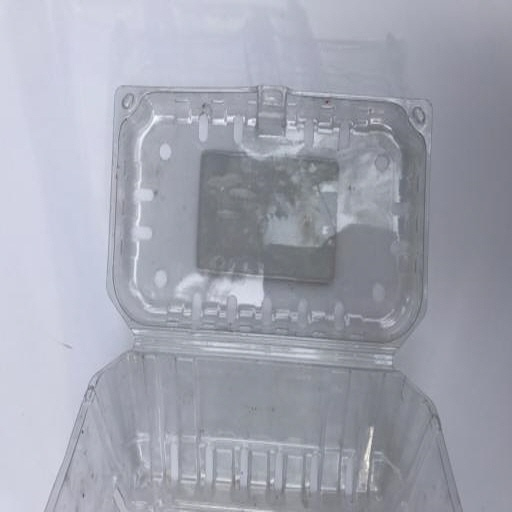Plastic_4: (46, 81, 463, 512)
